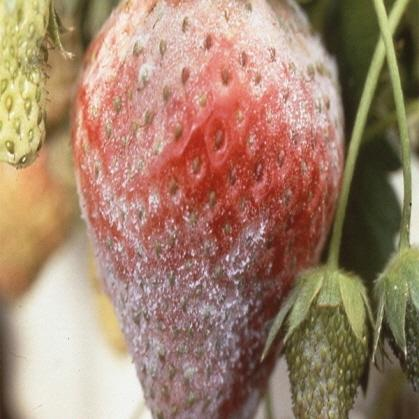Powdery Mildew Fruit: (68, 0, 345, 418), (258, 272, 370, 418)
